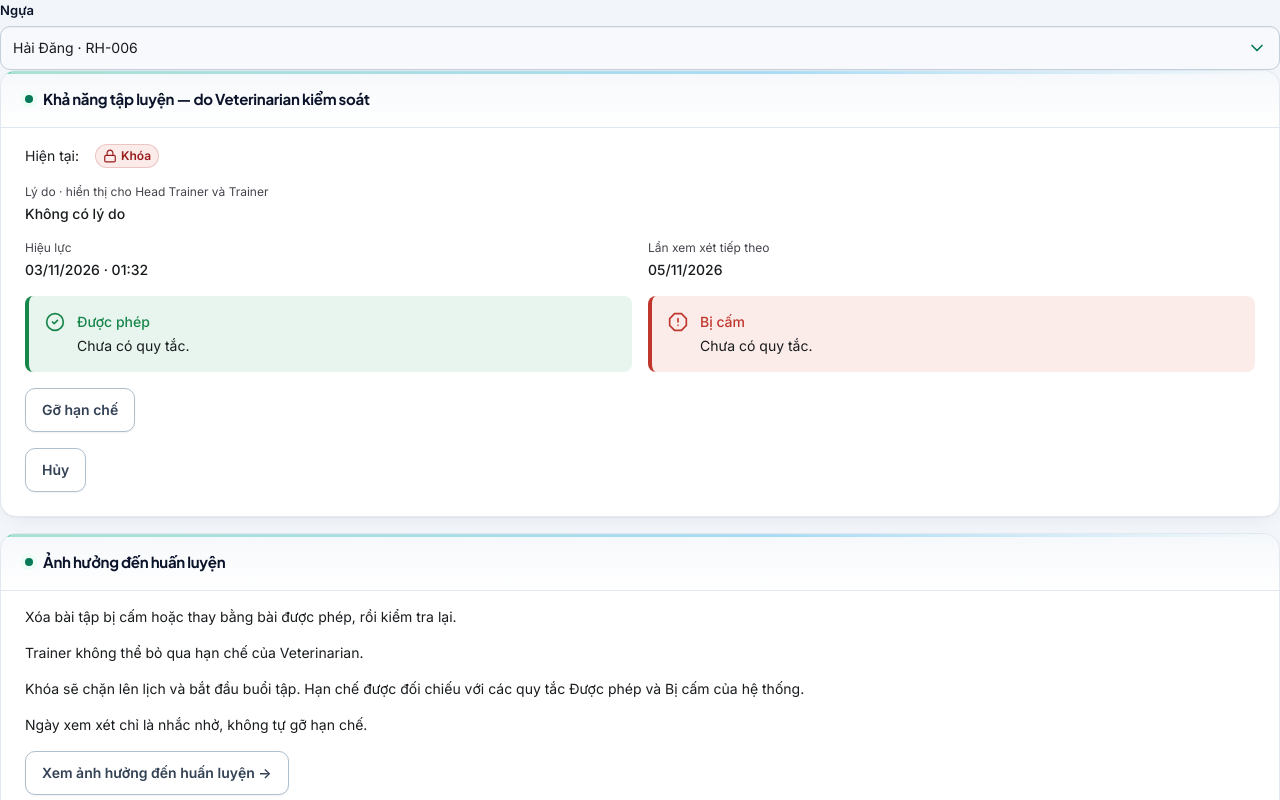
it: shows Vietnam dates and requires explicit confirmation before lifting
Click the button "Gỡ hạn chế" at (80, 410), box [25,388,135,432]
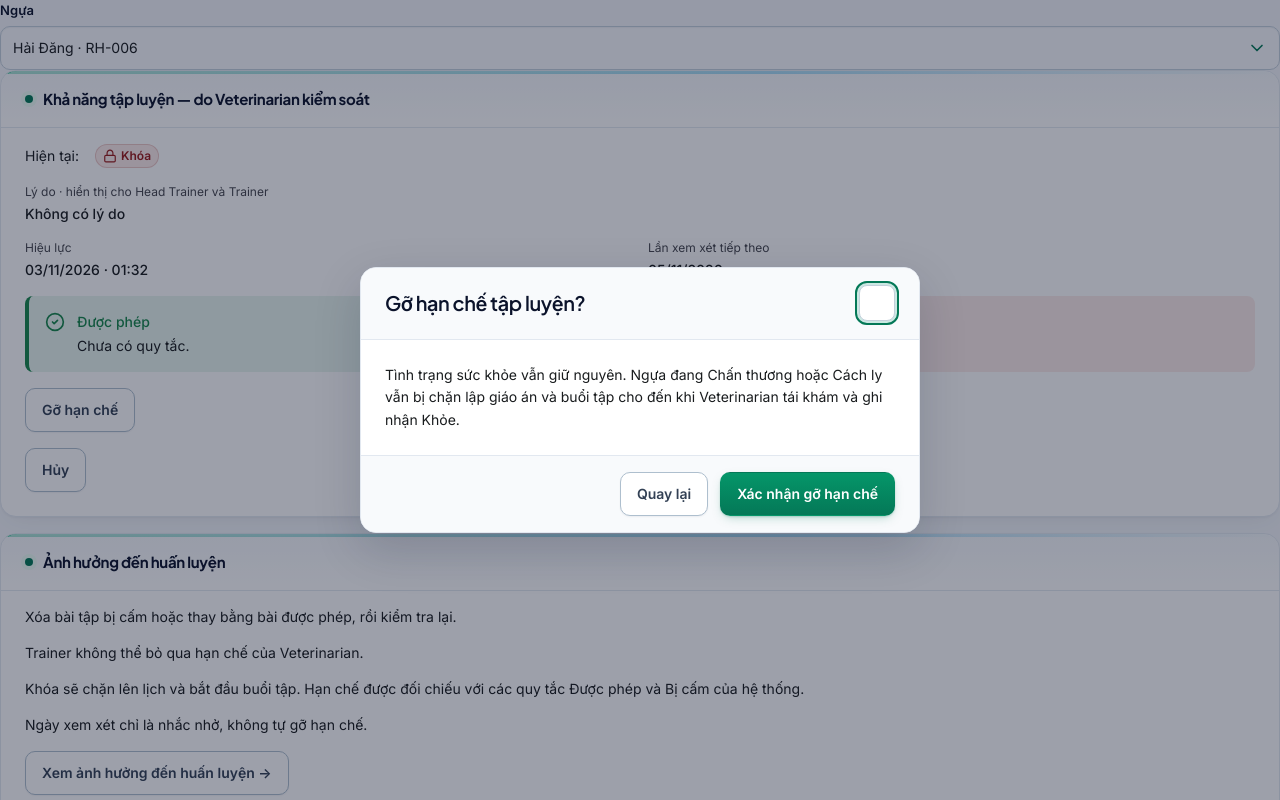
Expected: the text "03/11/2026 · 01:32" is shown, [25,261,148,278]
Expected: the dialog "Gỡ hạn chế tập luyện?" shows "Tình trạng sức khỏe vẫn giữ nguyên", [385,366,882,428]
Click the button "Quay lại" at (664, 494), box [620,472,708,516]
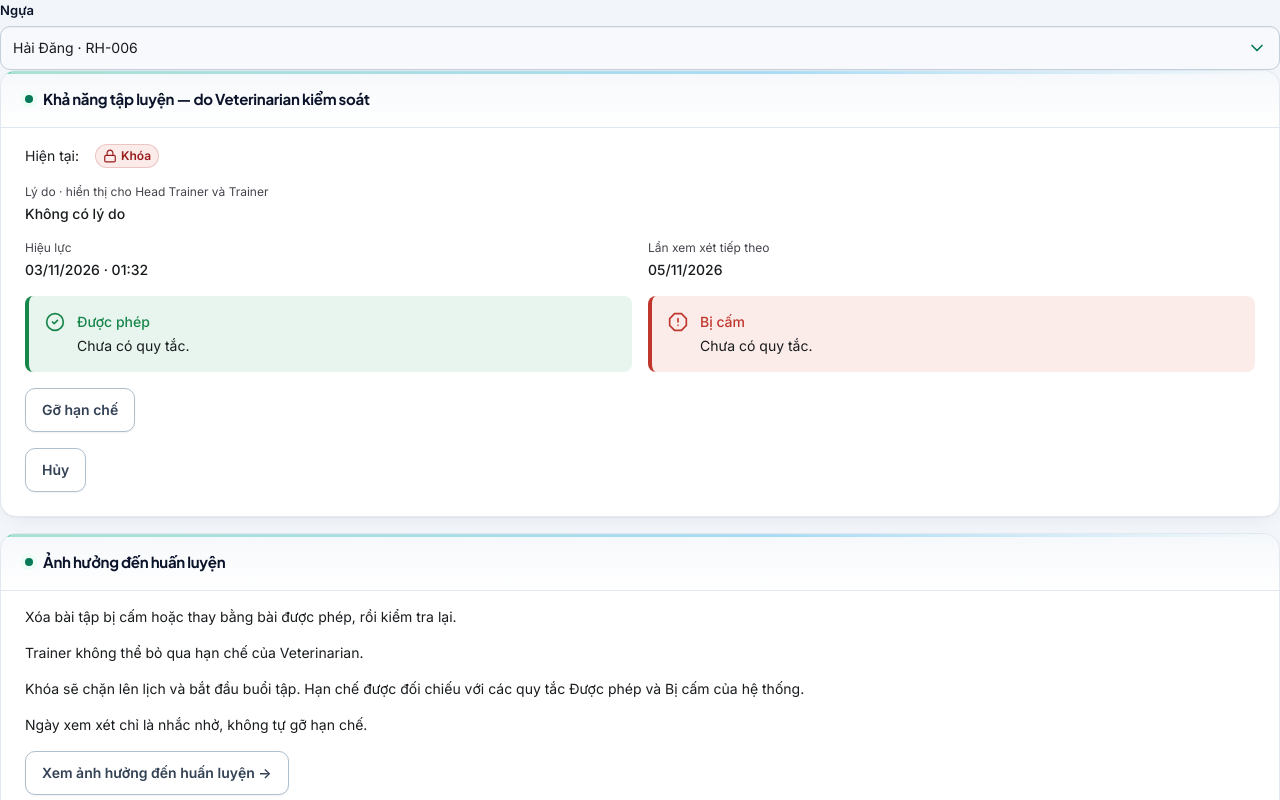
Click the button "Gỡ hạn chế" at (80, 410), box [25,388,135,432]
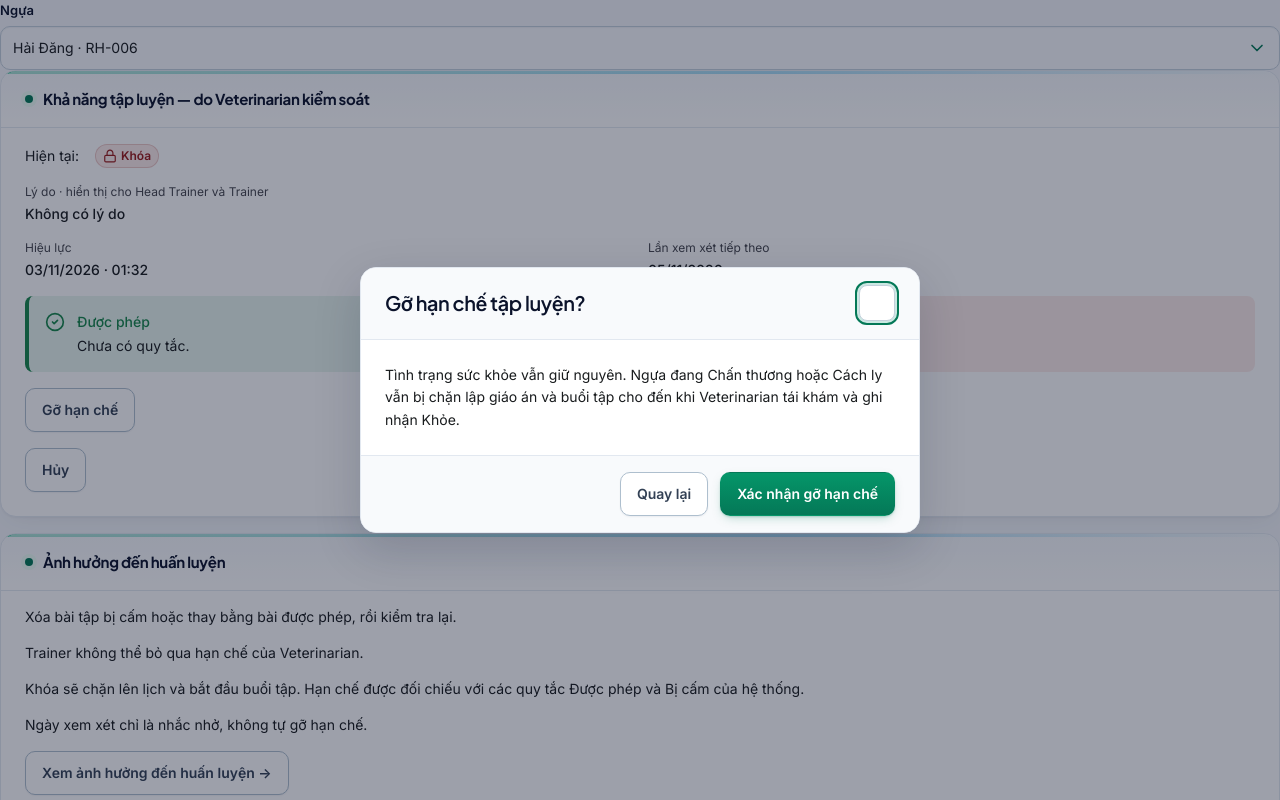
Click the button "Xác nhận gỡ hạn chế" at (808, 494), box [720,472,895,516]
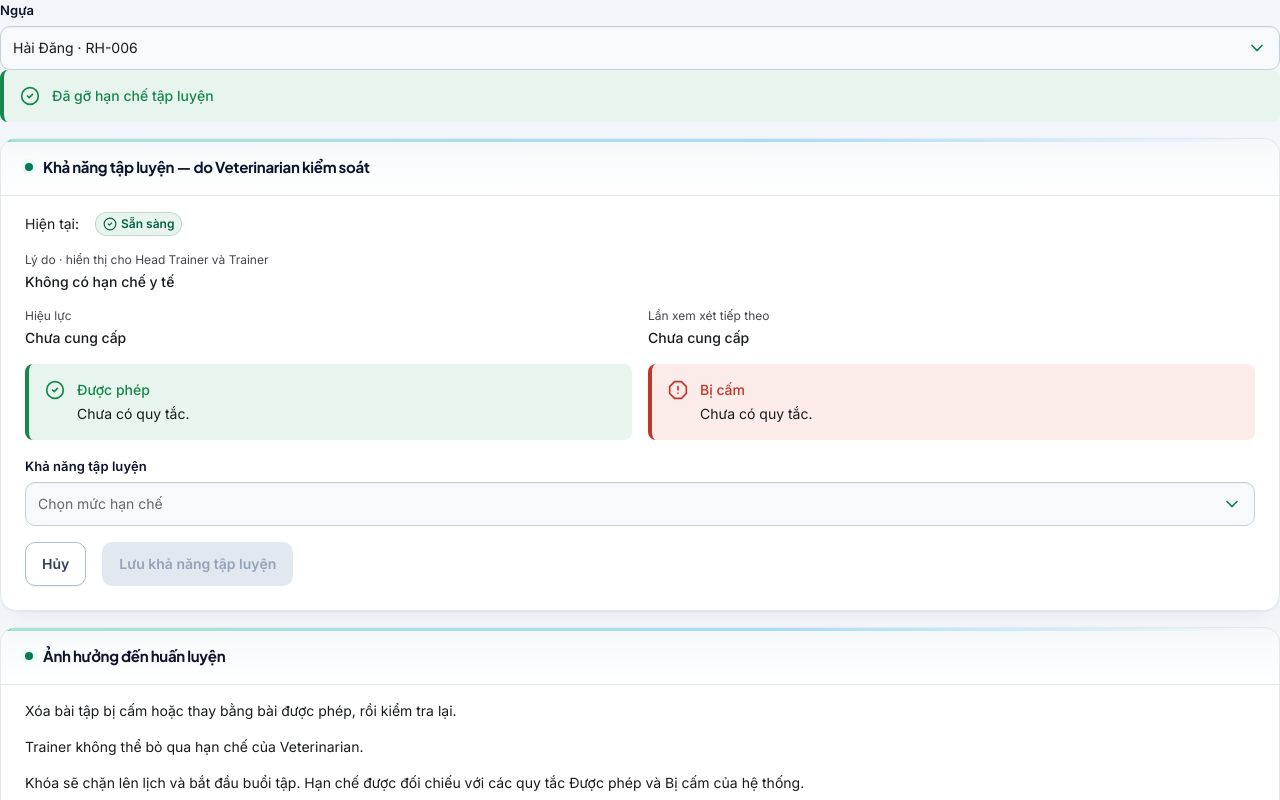
Expected: the text "Đã gỡ hạn chế tập luyện" is shown, [52,87,214,104]
Expected: the text "Sẵn sàng" is shown, [121,216,174,232]
